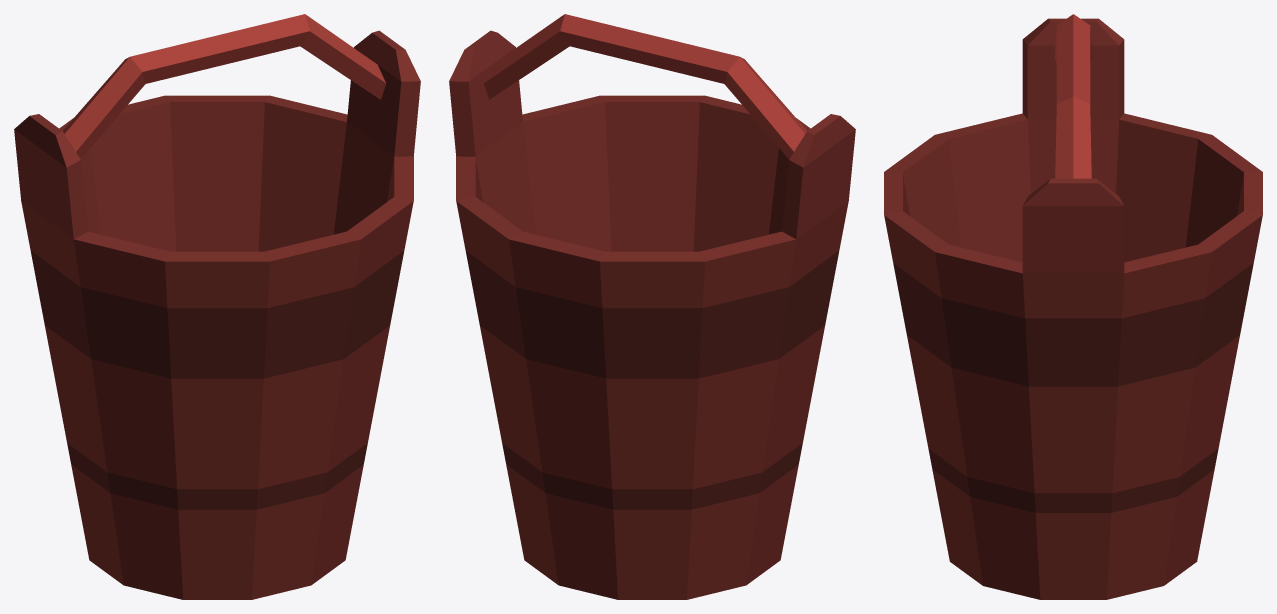
File: Bucket_2_Red.fbx
3 renders of one model, left to right at view 1: azimuth 30°, elevation 25°; view 2: azimuth 150°, elevation 25°; view 3: azimuth 270°, elevation 25°, orthographic. The views are drawn at different scales.
Visible parts, largest first — view 1: Bucket_2_Red_Part_1, Bucket_2_Red_Part_3, Bucket_2_Red_Part_2; view 2: Bucket_2_Red_Part_1, Bucket_2_Red_Part_3, Bucket_2_Red_Part_2; view 3: Bucket_2_Red_Part_1, Bucket_2_Red_Part_3, Bucket_2_Red_Part_2.
Part boxes in pixels (x1=…): Bucket_2_Red_Part_1: x1=14, y1=30, x2=420, y2=599; Bucket_2_Red_Part_3: x1=30, y1=251, x2=404, y2=509; Bucket_2_Red_Part_2: x1=63, y1=14, x2=386, y2=159; Bucket_2_Red_Part_1: x1=449, y1=30, x2=855, y2=599; Bucket_2_Red_Part_3: x1=465, y1=251, x2=839, y2=509; Bucket_2_Red_Part_2: x1=483, y1=14, x2=806, y2=159; Bucket_2_Red_Part_1: x1=884, y1=18, x2=1262, y2=599; Bucket_2_Red_Part_3: x1=893, y1=263, x2=1253, y2=512; Bucket_2_Red_Part_2: x1=1054, y1=14, x2=1092, y2=178.
Size of the model in its own units: 50.31 by 69.28 by 48.3.
